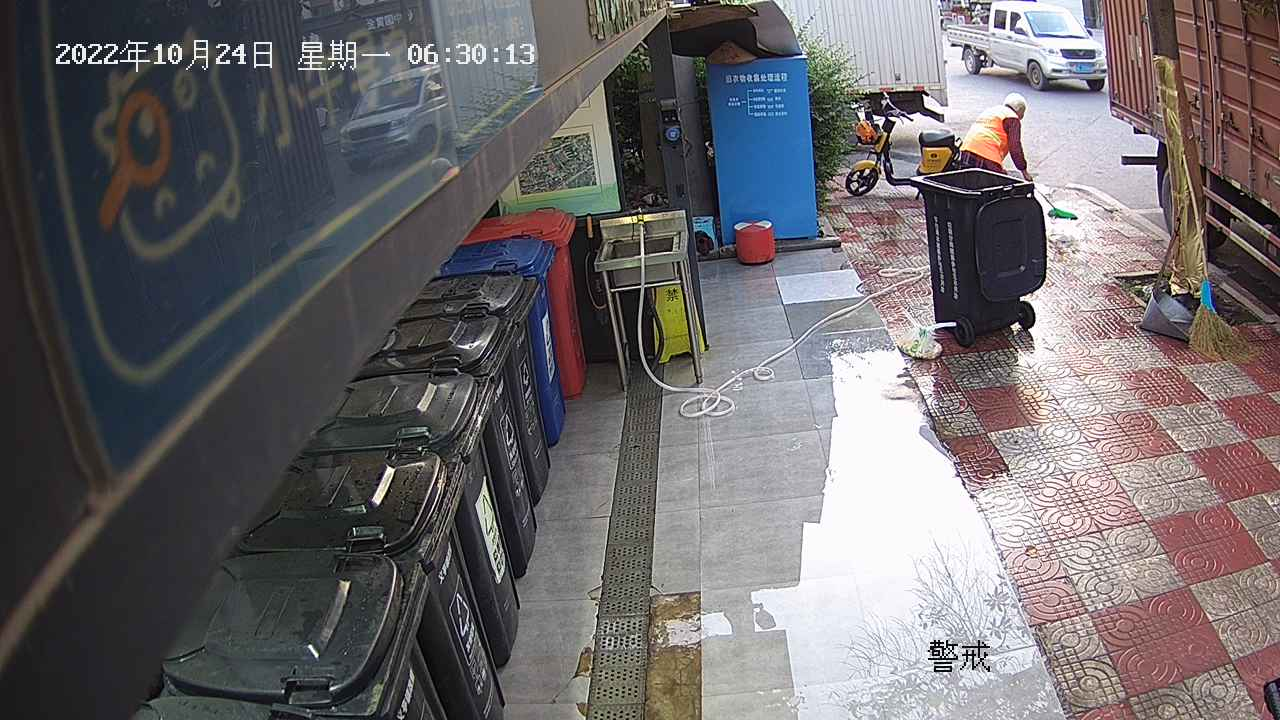garbage-bag: (895, 303, 958, 367)
worker: (946, 89, 1043, 193)
